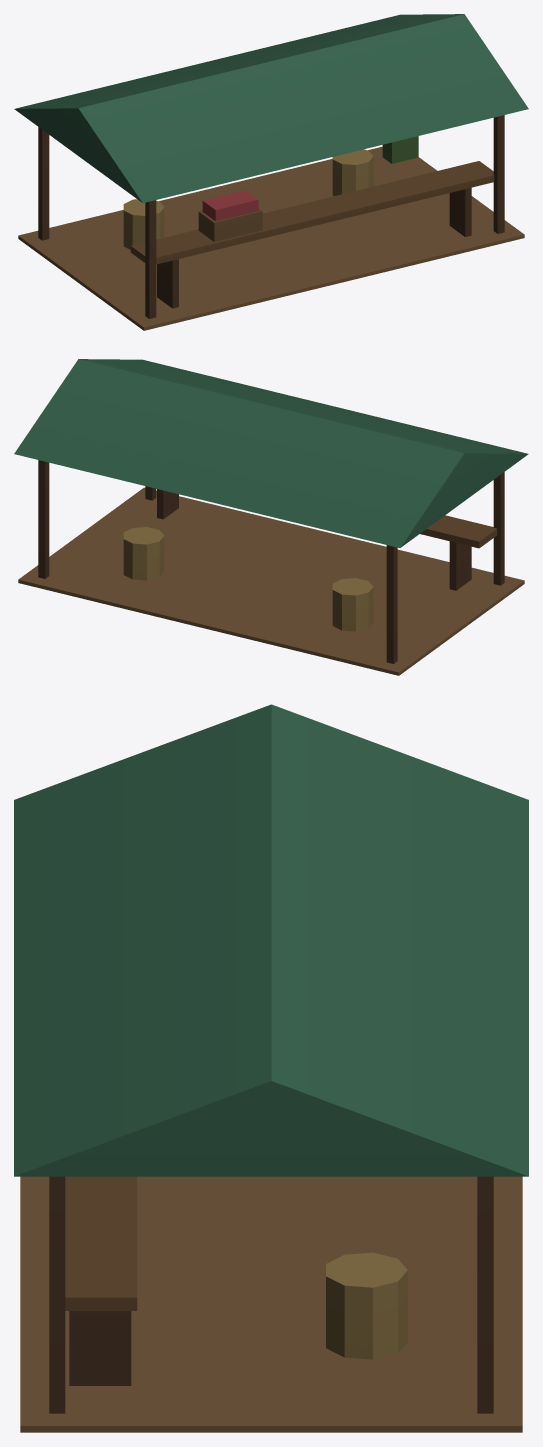
The model's file is yard_stall_green.glb.
3 views of the same model, one above another, from view 1: azimuth 30°, elevation 25°; view 2: azimuth 150°, elevation 25°; view 3: azimuth 270°, elevation 25° (orthographic). The views are drawn at different scales.
Parts seen in each view (by area): view 1: prop; view 2: prop; view 3: prop.
Part boxes in pixels (x1,y1,x2,y2): prop: (14,14,528,330); prop: (14,359,528,675); prop: (14,704,528,1432).
Bounding box in the file's own units: 7.18 × 3.15 × 4.15.
